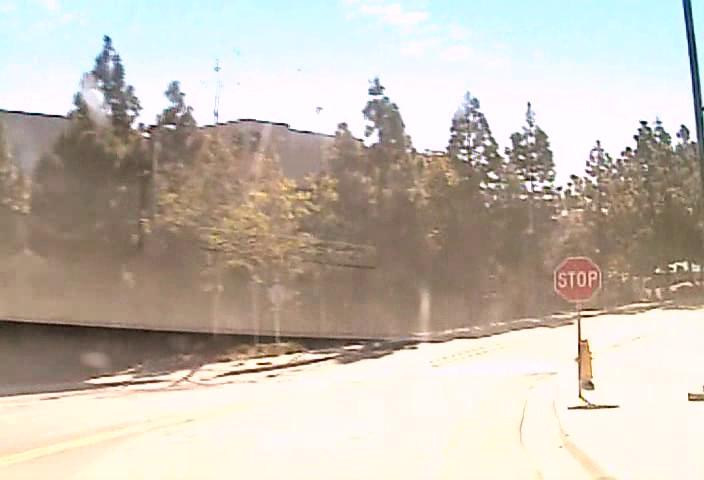stop: (553, 256, 601, 302)
